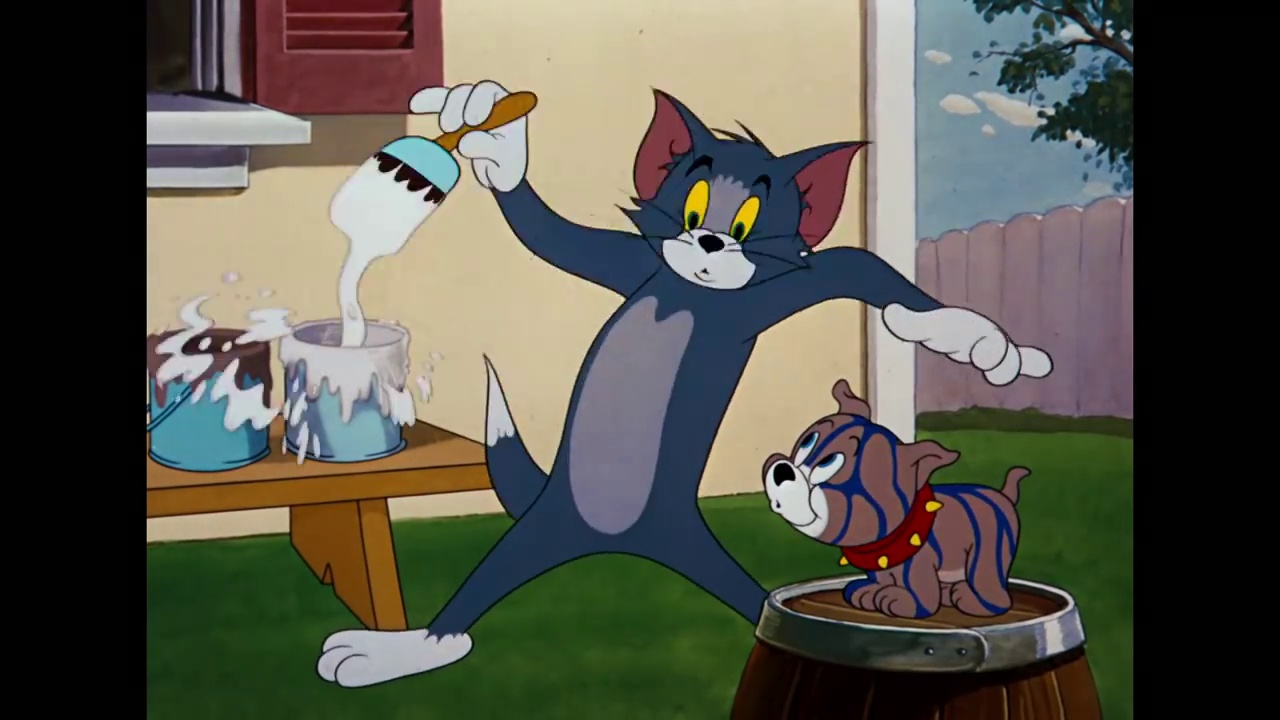tom: (618, 85, 871, 292)
